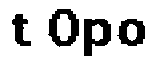0: (45, 4, 80, 51)
o: (116, 15, 148, 51)
p: (81, 16, 115, 60)
t: (7, 12, 34, 48)
